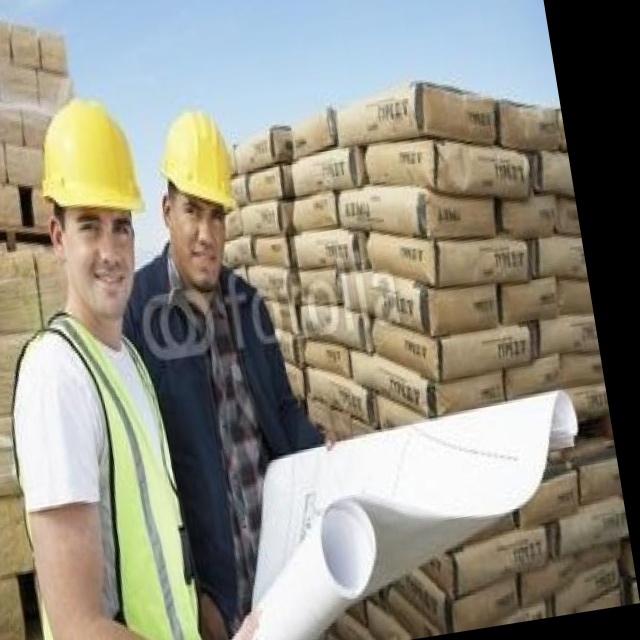Con_Casco: (30, 95, 152, 319), (154, 107, 240, 285)
